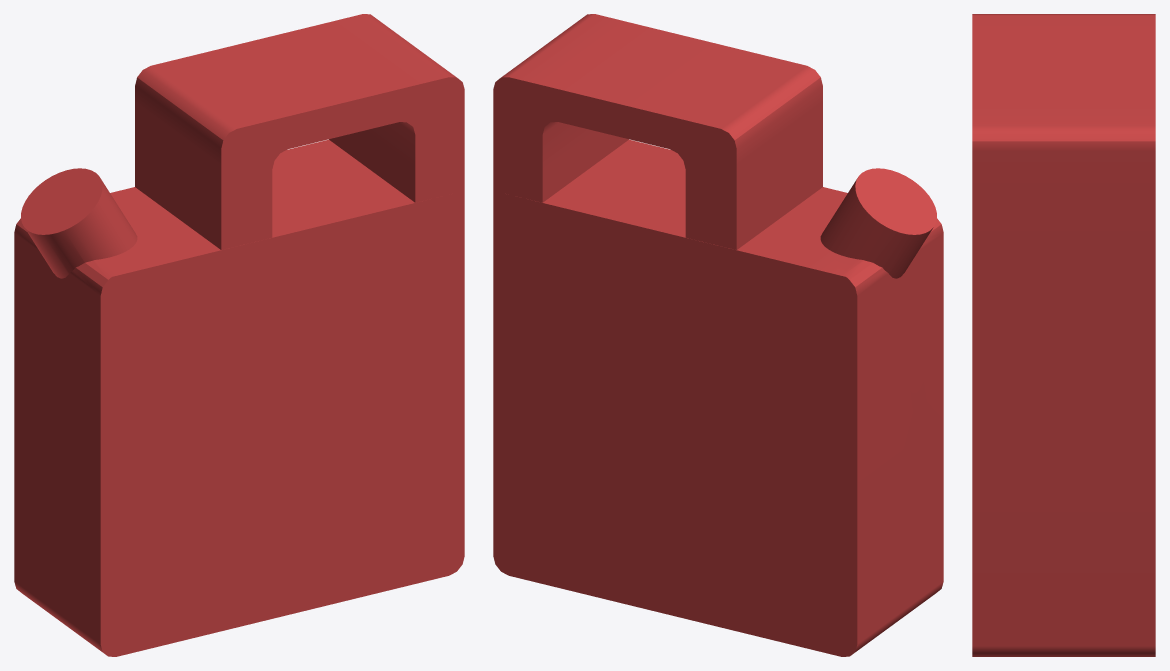
File: bensin.fbx
3 views of the same model, side by side, from view 1: azimuth 30°, elevation 25°; view 2: azimuth 150°, elevation 25°; view 3: azimuth 270°, elevation 25° (orthographic). The views are drawn at different scales.
Visible parts, largest first — view 1: pCube2; view 2: pCube2; view 3: pCube2.
Part boxes in pixels (x1,y1,x2,y2): pCube2: [14, 14, 464, 656]; pCube2: [493, 14, 943, 656]; pCube2: [972, 14, 1155, 656].
Bounding box in the file's own units: 1.08 × 1.31 × 0.4111.
